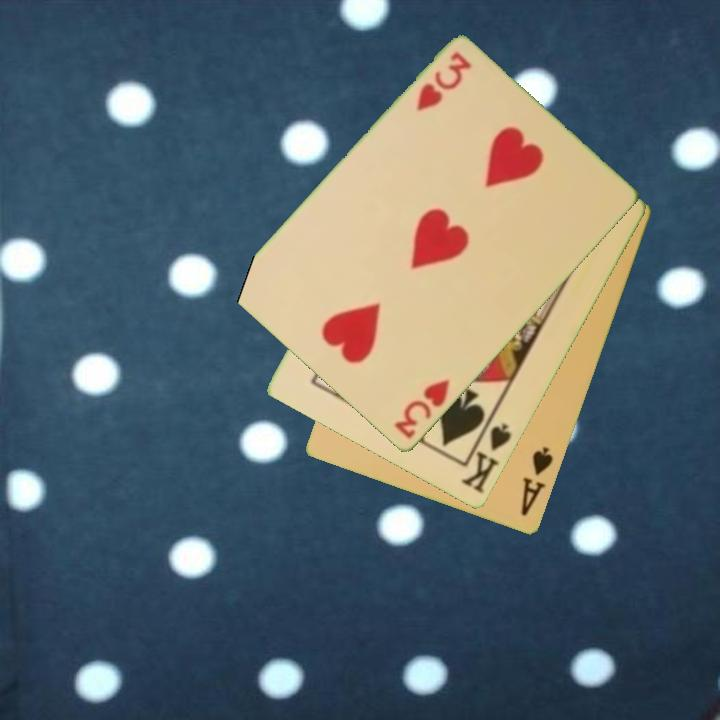3h: (390, 376, 453, 443), (412, 48, 475, 115)
As: (517, 443, 557, 520)
Ks: (458, 412, 515, 497)
